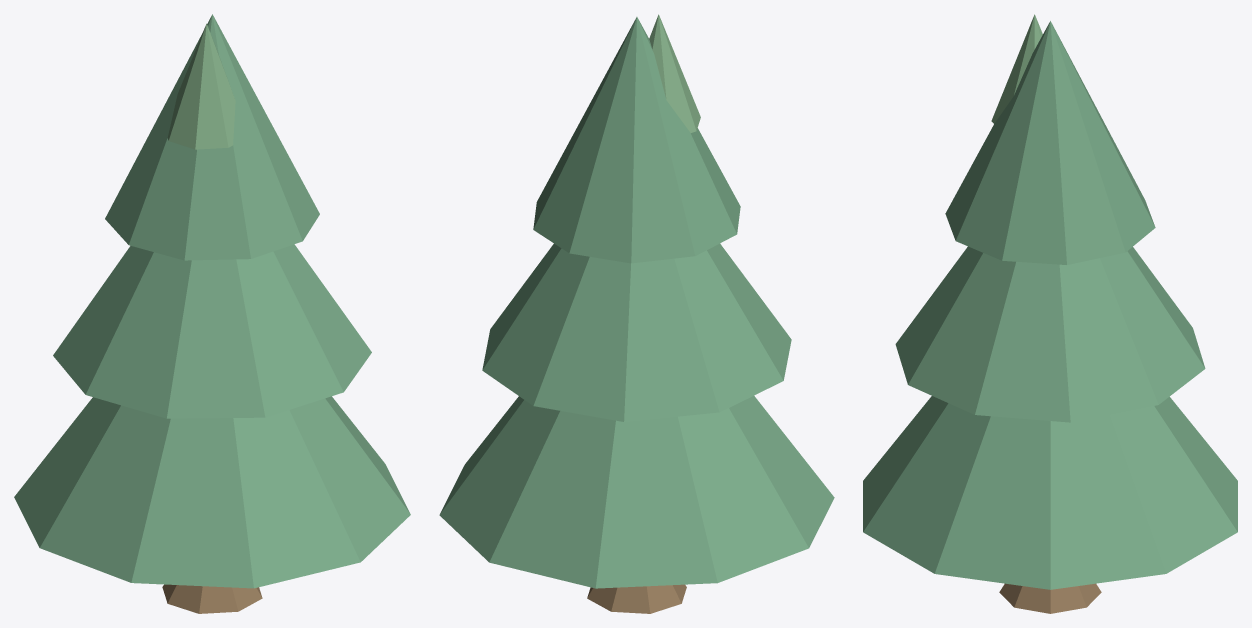
The model's file is tree_cone.glb.
3 renders of one model, left to right at view 1: azimuth 30°, elevation 25°; view 2: azimuth 150°, elevation 25°; view 3: azimuth 270°, elevation 25°, orthographic.
Parts seen in each view (by area): view 1: cn, cn2, tr; view 2: cn, cn2, tr; view 3: cn, tr, cn2.
Part boxes in pixels (x1=…): cn: x1=14, y1=14, x2=410, y2=588; cn2: x1=167, y1=23, x2=235, y2=149; tr: x1=162, y1=584, x2=262, y2=613; cn: x1=439, y1=17, x2=834, y2=588; cn2: x1=649, y1=14, x2=700, y2=132; tr: x1=587, y1=584, x2=686, y2=613; cn: x1=863, y1=21, x2=1237, y2=589; tr: x1=999, y1=583, x2=1101, y2=613; cn2: x1=991, y1=14, x2=1042, y2=123.
Bounding box in the file's own units: 1 × 1.6 × 0.9511.
